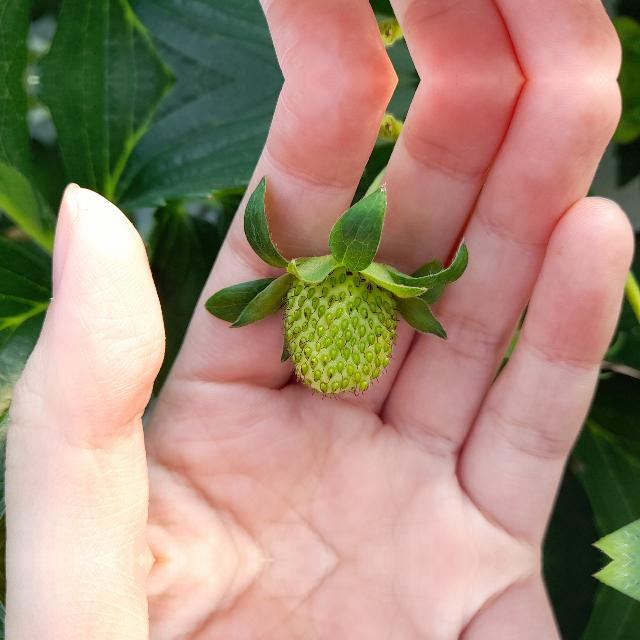Health_25: (283, 267, 397, 395)
